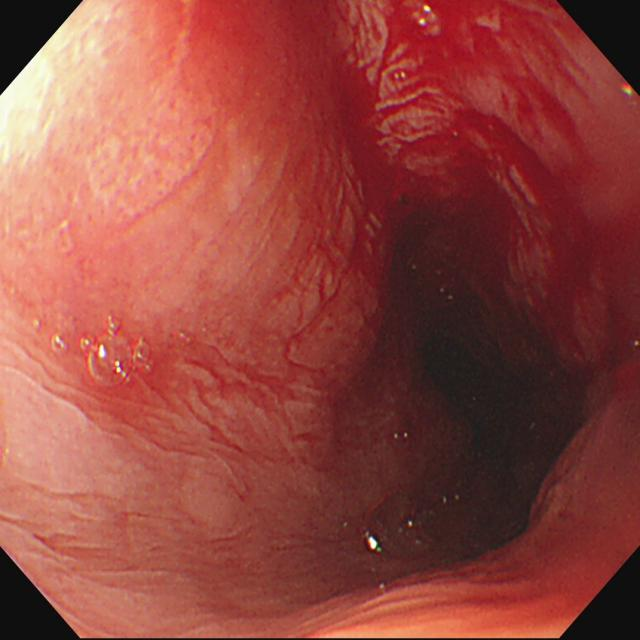C: (216, 2, 596, 239)
E: (427, 325, 533, 521)
J: (2, 2, 124, 168)
T: (79, 314, 154, 391)
U: (364, 528, 383, 555), (418, 4, 433, 28)
